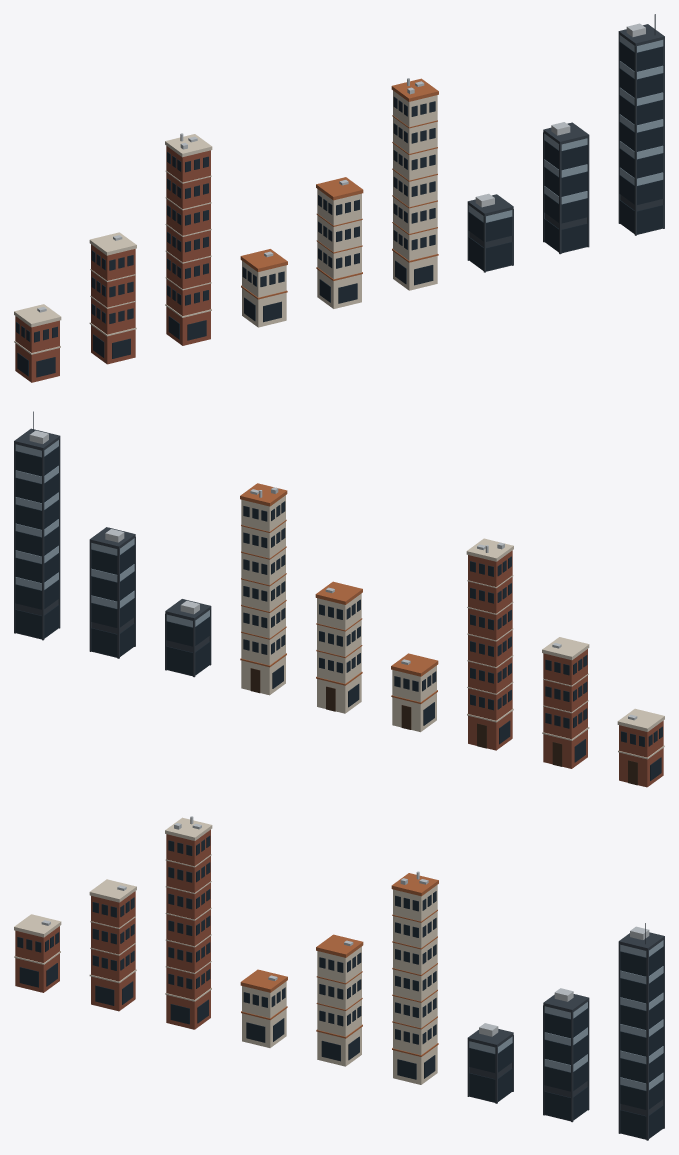
The model's file is buildings.glb.
The picture shows the model from 3 angles, top to bottom: view 1: azimuth 30°, elevation 25°; view 2: azimuth 150°, elevation 25°; view 3: azimuth 330°, elevation 25°; orthographic projection.
Parts seen in each view (by area): view 1: glass_high, brick_high, plaster_high, glass_mid, brick_mid, plaster_mid, glass_low, plaster_low, brick_low; view 2: glass_high, brick_high, plaster_high, glass_mid, brick_mid, plaster_mid, glass_low, brick_low, plaster_low; view 3: glass_high, brick_high, plaster_high, glass_mid, brick_mid, plaster_mid, glass_low, plaster_low, brick_low.
Boxes of the visible parts, x1=… form: glass_high: x1=618, y1=14, x2=664, y2=235; brick_high: x1=165, y1=133, x2=212, y2=345; plaster_high: x1=391, y1=78, x2=438, y2=290; glass_mid: x1=543, y1=122, x2=589, y2=254; brick_mid: x1=89, y1=232, x2=136, y2=364; plaster_mid: x1=316, y1=177, x2=363, y2=308; glass_low: x1=467, y1=193, x2=513, y2=272; plaster_low: x1=240, y1=249, x2=287, y2=327; brick_low: x1=14, y1=304, x2=61, y2=382; glass_high: x1=14, y1=411, x2=60, y2=640; brick_high: x1=466, y1=538, x2=513, y2=750; plaster_high: x1=240, y1=483, x2=287, y2=695; glass_mid: x1=89, y1=527, x2=135, y2=658; brick_mid: x1=542, y1=637, x2=589, y2=768; plaster_mid: x1=315, y1=581, x2=362, y2=713; glass_low: x1=165, y1=599, x2=211, y2=677; brick_low: x1=617, y1=708, x2=664, y2=787; plaster_low: x1=391, y1=653, x2=438, y2=732; glass_high: x1=618, y1=923, x2=664, y2=1140; brick_high: x1=165, y1=816, x2=212, y2=1029; plaster_high: x1=391, y1=871, x2=438, y2=1084; glass_mid: x1=543, y1=988, x2=589, y2=1122; brick_mid: x1=89, y1=879, x2=136, y2=1011; plaster_mid: x1=316, y1=934, x2=363, y2=1066; glass_low: x1=467, y1=1023, x2=513, y2=1103; plaster_low: x1=240, y1=969, x2=287, y2=1047; brick_low: x1=14, y1=914, x2=61, y2=992.
Size of the model in its own units: 67.15 by 21.6 by 3.18.
